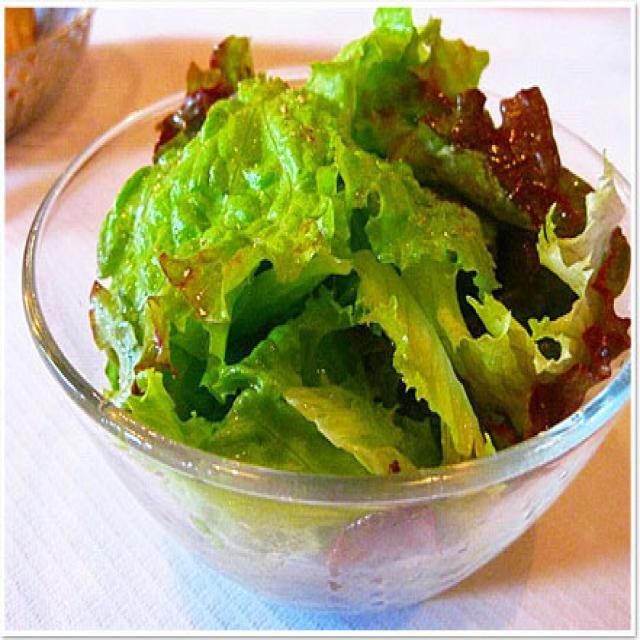Green Salad: (72, 20, 616, 476)
